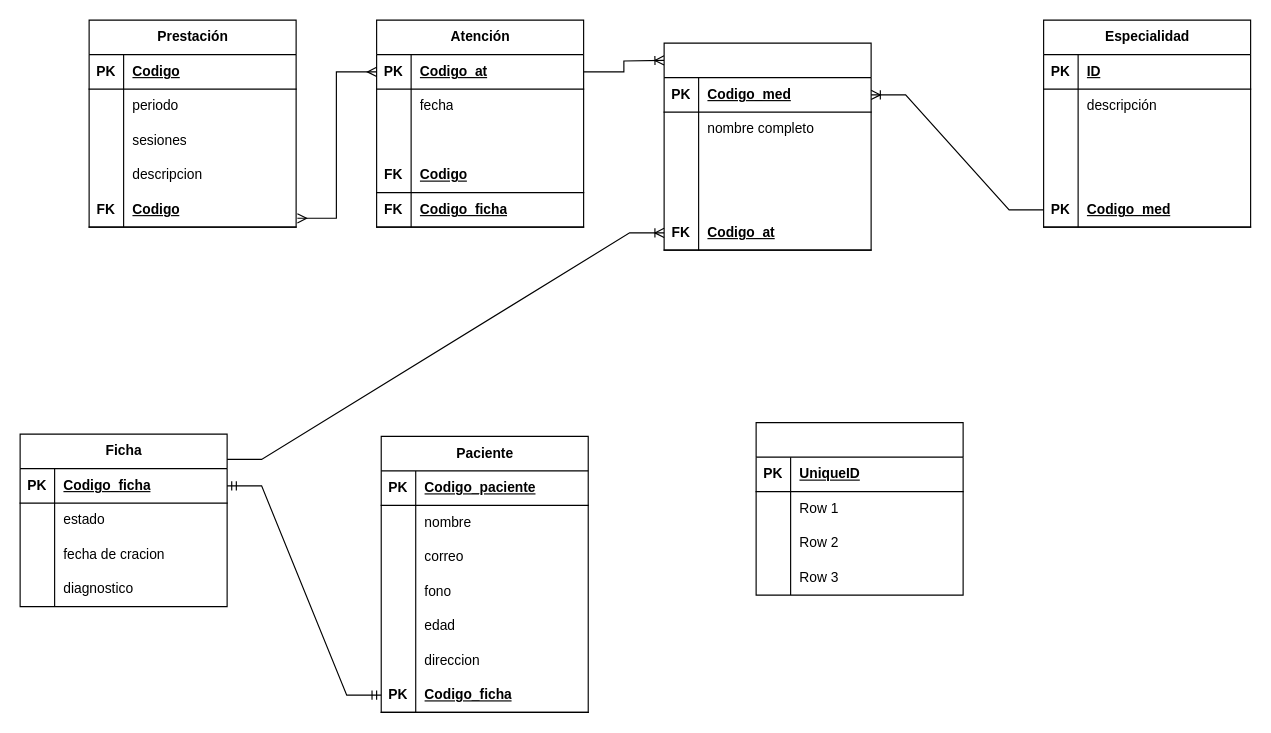
Image size: 1271x733. Some labels were removed from this diagram. Each missing label, with the box of its shape:
Medico: (663, 42, 871, 250)
Table: (755, 421, 963, 595)
